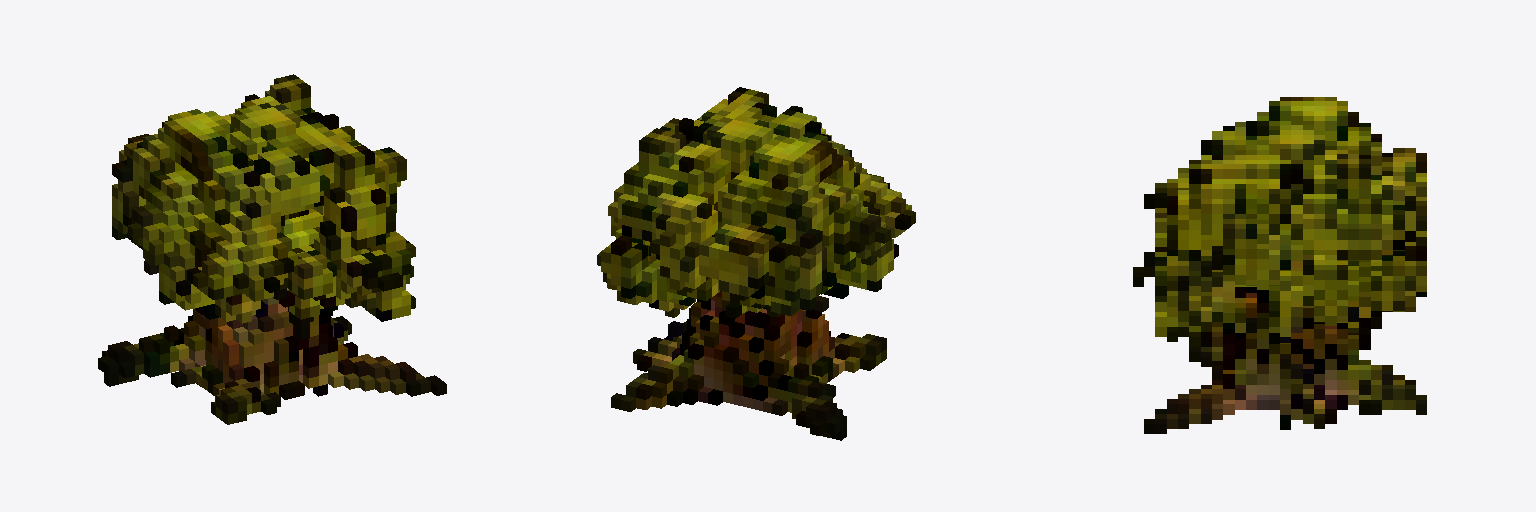
Rendered from iter_100.obj.
3 renders of one model, left to right at view 1: azimuth 30°, elevation 25°; view 2: azimuth 150°, elevation 25°; view 3: azimuth 270°, elevation 25°, orthographic.
Visible parts, largest first — view 1: iter_100; view 2: iter_100; view 3: iter_100.
Boxes of the visible parts, x1=… form: iter_100: x1=98, y1=74, x2=446, y2=424; iter_100: x1=597, y1=87, x2=915, y2=440; iter_100: x1=1133, y1=97, x2=1426, y2=433.
Bounding box in the file's own units: 2.5 × 2.5 × 2.6.